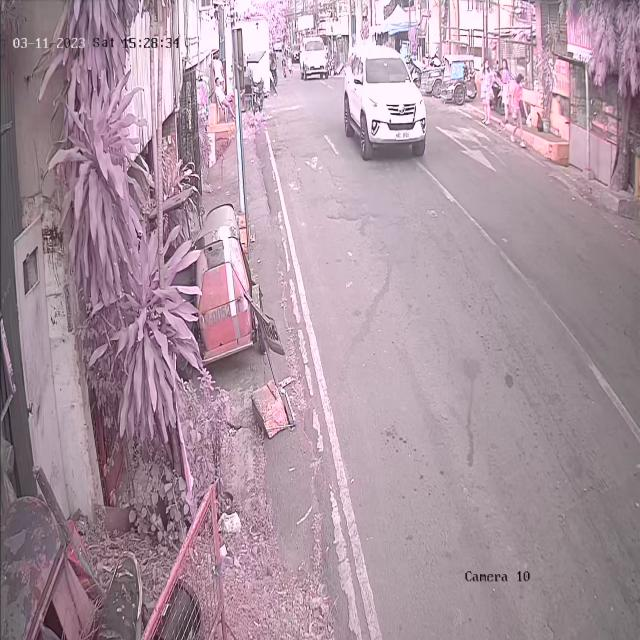human: (509, 74, 532, 150)
trash: (534, 110, 546, 132), (526, 107, 532, 130)
